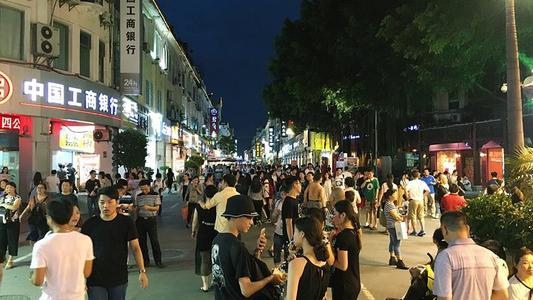people: (431, 216, 509, 300), (37, 197, 94, 300), (88, 187, 134, 300), (213, 198, 263, 300), (331, 204, 365, 298), (287, 223, 328, 298), (136, 180, 166, 267), (213, 182, 234, 264), (383, 188, 405, 259), (3, 185, 22, 262), (197, 190, 211, 286), (513, 246, 533, 300), (33, 180, 49, 231), (367, 169, 379, 231), (412, 172, 424, 232), (187, 178, 201, 217), (484, 169, 504, 194), (344, 180, 361, 207), (312, 174, 325, 207), (59, 179, 76, 203), (253, 177, 265, 203), (425, 167, 432, 207), (179, 173, 191, 196), (451, 164, 461, 189), (87, 169, 99, 188), (437, 173, 448, 191), (323, 170, 334, 188), (459, 173, 471, 188), (335, 164, 345, 180), (100, 170, 110, 183), (138, 170, 148, 181), (346, 164, 355, 176), (125, 170, 130, 181), (134, 170, 140, 179), (210, 169, 213, 181), (228, 173, 238, 176)
